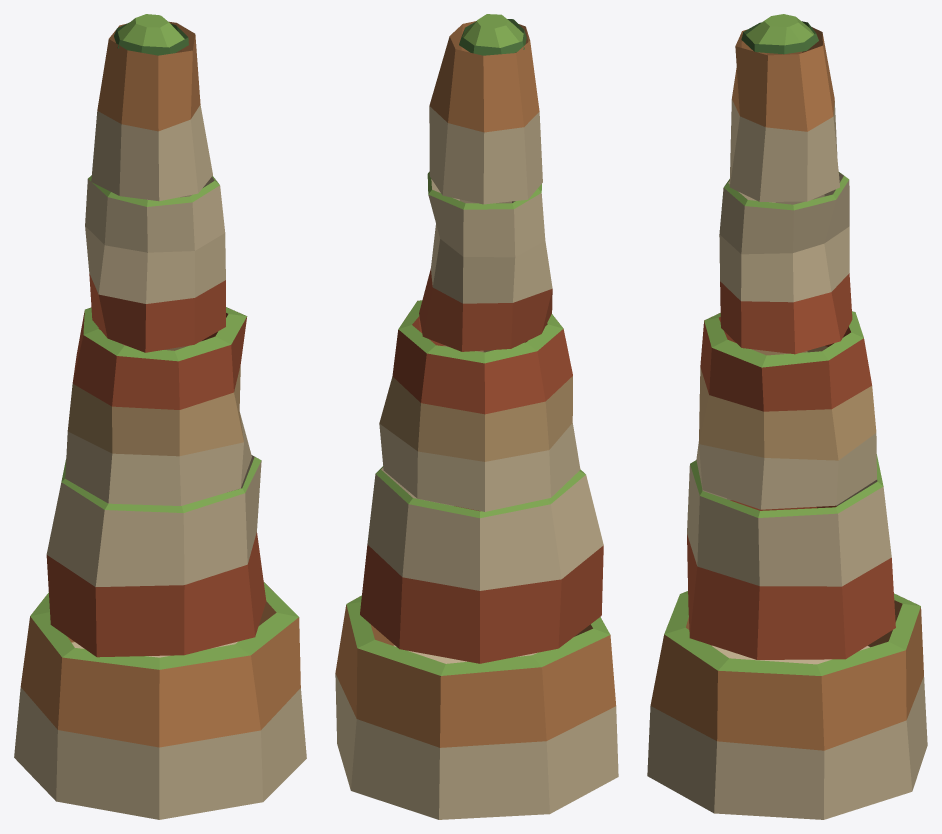
The model's file is rock_spire_c.glb.
3 renders of one model, left to right at view 1: azimuth 30°, elevation 25°; view 2: azimuth 150°, elevation 25°; view 3: azimuth 270°, elevation 25°, orthographic.
Visible parts, largest first — view 1: rock_spire_c; view 2: rock_spire_c; view 3: rock_spire_c.
Part boxes in pixels (x1,y1,x2,y2): rock_spire_c: (14,14,306,819); rock_spire_c: (335,14,618,819); rock_spire_c: (647,14,927,819).
Size of the model in its own units: 14.61 by 41.95 by 14.52.
